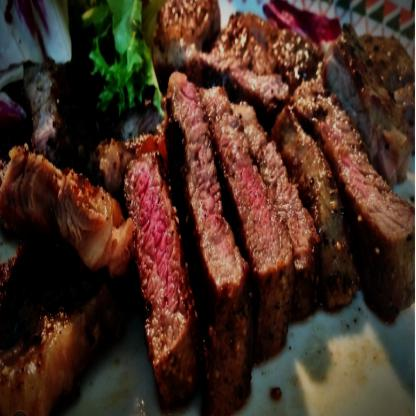Carne: (292, 59, 416, 315), (164, 69, 245, 398), (201, 68, 290, 360), (123, 146, 204, 405), (234, 95, 320, 314), (0, 147, 124, 278), (322, 27, 413, 185), (186, 7, 319, 113)
